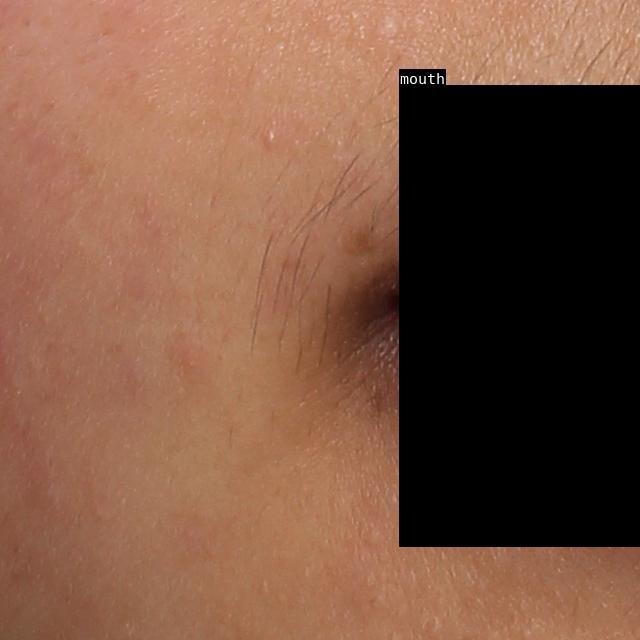comedo: (374, 13, 399, 40), (262, 130, 279, 148)
